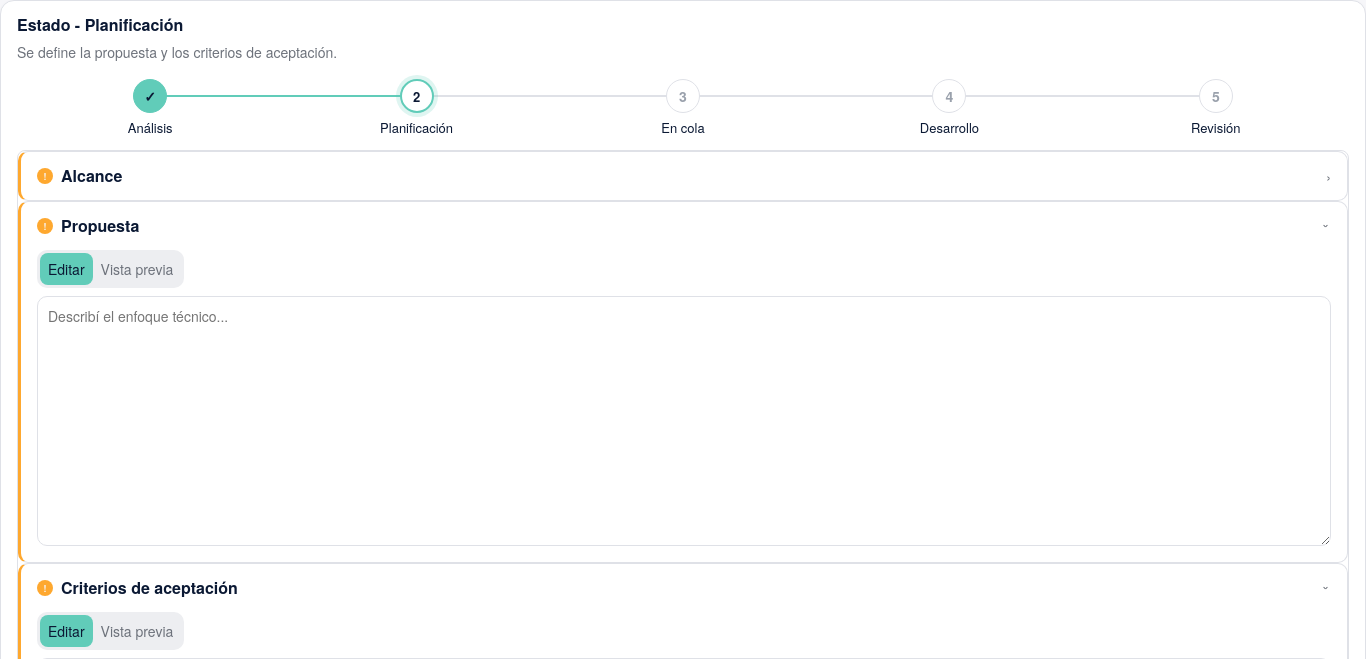
Scenario: RequirementStatusCard › S-086: toggle Editar/Vista previa en los campos markdown › TS-4: Vista previa de Propuesta vacío muestra su placeholder
Click the 1st radio button "Vista previa". click: click(137, 269)
box: [93,253,181,285]
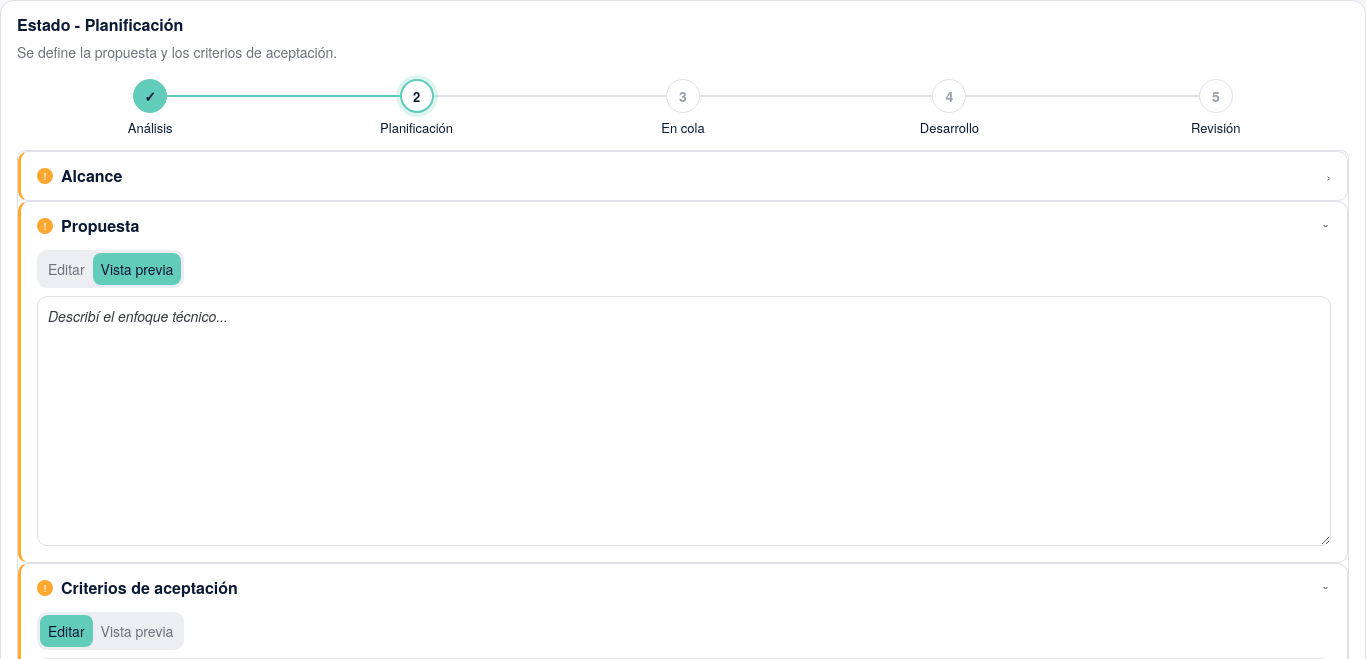
Check: the text "Describí el enfoque técnico..." is shown, box [48,306,228,326]
